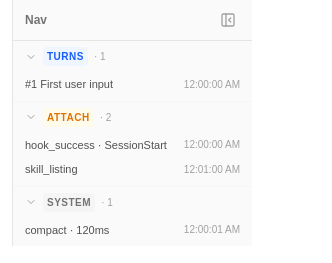
Test: MessageNavPanel › collapses and expands a group
The width and height of the screenshot is (332, 263).
What coordinates should you click on to do the following:
click the button labelled "attach · 2"
I would click on:
 (132, 117)
Its box is [13,102,252,132].
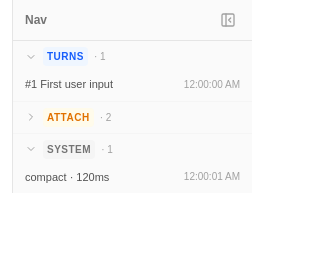
Now the button "hook_success · SessionStart" is gone
What coordinates should you click on to do the following:
click the button labelled "attach · 2"
I would click on:
 (132, 117)
Its box is [13,102,252,132].
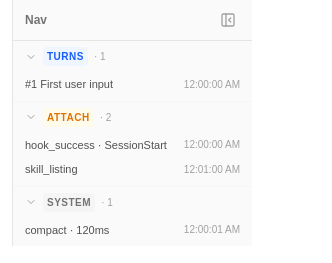
Now the text "hook_success · SessionStart" is shown, box [25,136,176,153]
